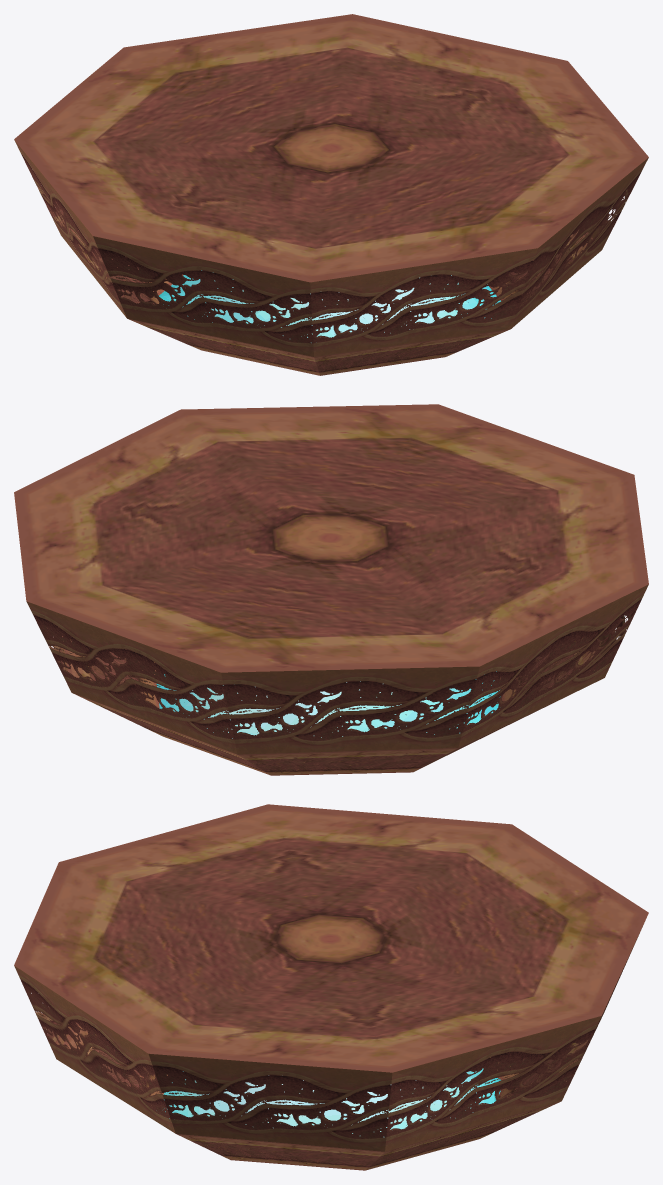
The model's file is plat-lod1.glb.
3 renders of one model, top to bottom at view 1: azimuth 30°, elevation 25°; view 2: azimuth 150°, elevation 25°; view 3: azimuth 270°, elevation 25°, orthographic. The views are drawn at different scales.
Visible parts, largest first — view 1: plat-lod1; view 2: plat-lod1; view 3: plat-lod1.
Boxes of the visible parts, x1=… form: plat-lod1: x1=14, y1=14, x2=648, y2=375; plat-lod1: x1=14, y1=404, x2=648, y2=775; plat-lod1: x1=14, y1=804, x2=648, y2=1170.
Size of the model in its own units: 4.79 by 1.32 by 4.79.
3 materials, 3 textured.
